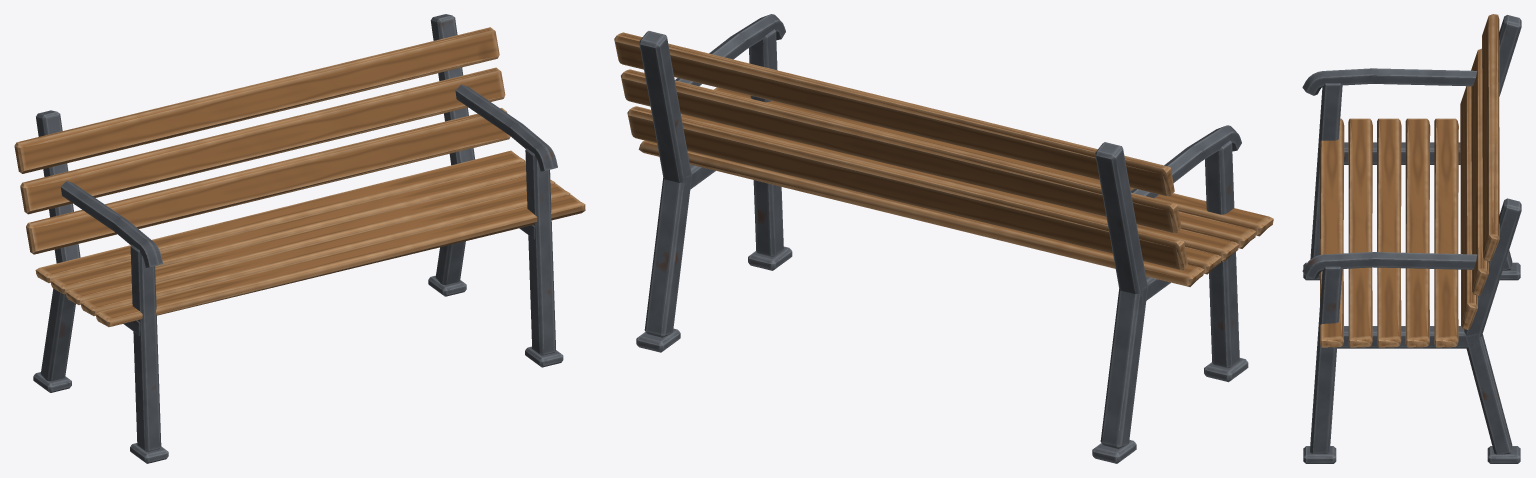
Rendered from park_bench.glb.
3 views of the same model, side by side, from view 1: azimuth 30°, elevation 25°; view 2: azimuth 150°, elevation 25°; view 3: azimuth 270°, elevation 25° (orthographic). The views are drawn at different scales.
Visible parts, largest first — view 1: park_bench_static; view 2: park_bench_static; view 3: park_bench_static.
Boxes of the visible parts, x1,y1,x2,y2 form: park_bench_static: (14,14,585,463); park_bench_static: (614,14,1273,463); park_bench_static: (1302,14,1521,463).
Size of what is drawn, in the model's own units: 1.6 by 0.8654 by 0.6665.
2 materials, 2 textured.
